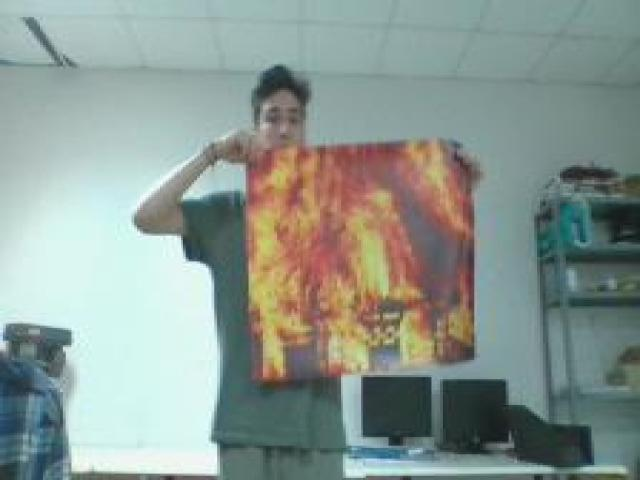fire-poster: (243, 135, 483, 386)
